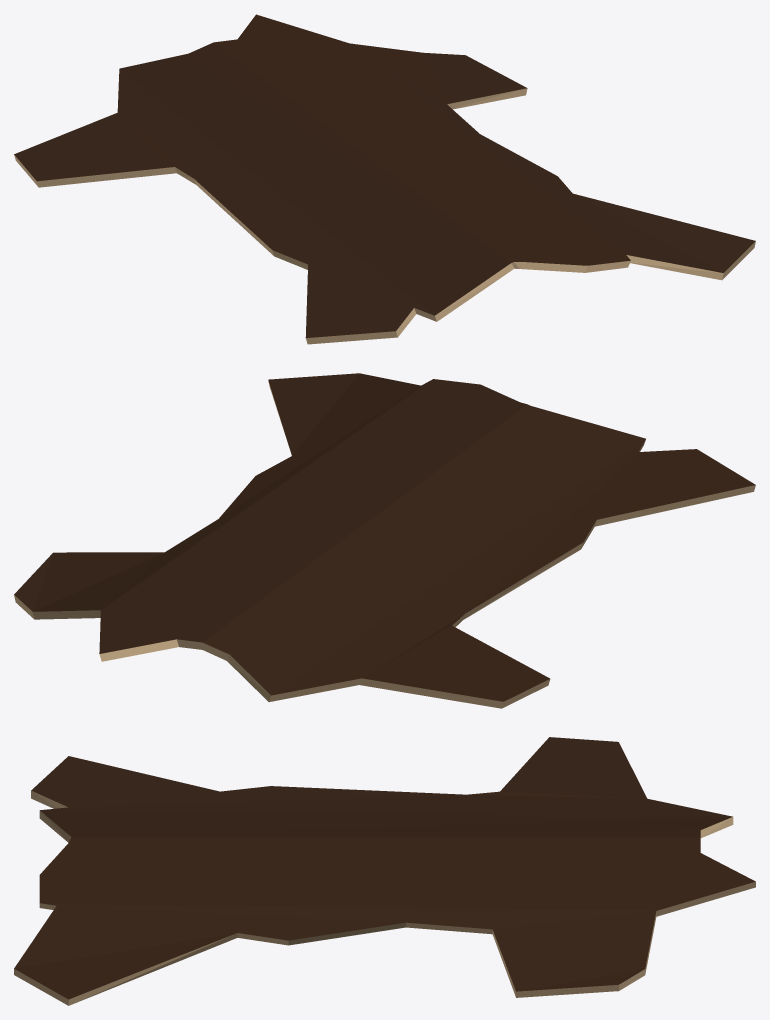
File: Tribal_Plains_Hide_Skin_Bear_Decoration_Prop_01.fbx
3 renders of one model, top to bottom at view 1: azimuth 30°, elevation 25°; view 2: azimuth 150°, elevation 25°; view 3: azimuth 270°, elevation 25°, orthographic. The views are drawn at different scales.
Visible parts, largest first — view 1: Tribal_Plains_Hide_Skin_Bear_Decoration_Prop_01; view 2: Tribal_Plains_Hide_Skin_Bear_Decoration_Prop_01; view 3: Tribal_Plains_Hide_Skin_Bear_Decoration_Prop_01.
Boxes of the visible parts, <box> form: Tribal_Plains_Hide_Skin_Bear_Decoration_Prop_01: <box>14,14,755,344</box>; Tribal_Plains_Hide_Skin_Bear_Decoration_Prop_01: <box>14,373,755,708</box>; Tribal_Plains_Hide_Skin_Bear_Decoration_Prop_01: <box>14,737,755,1005</box>.
Size of the model in its own units: 1.84 by 0.1559 by 2.3.
